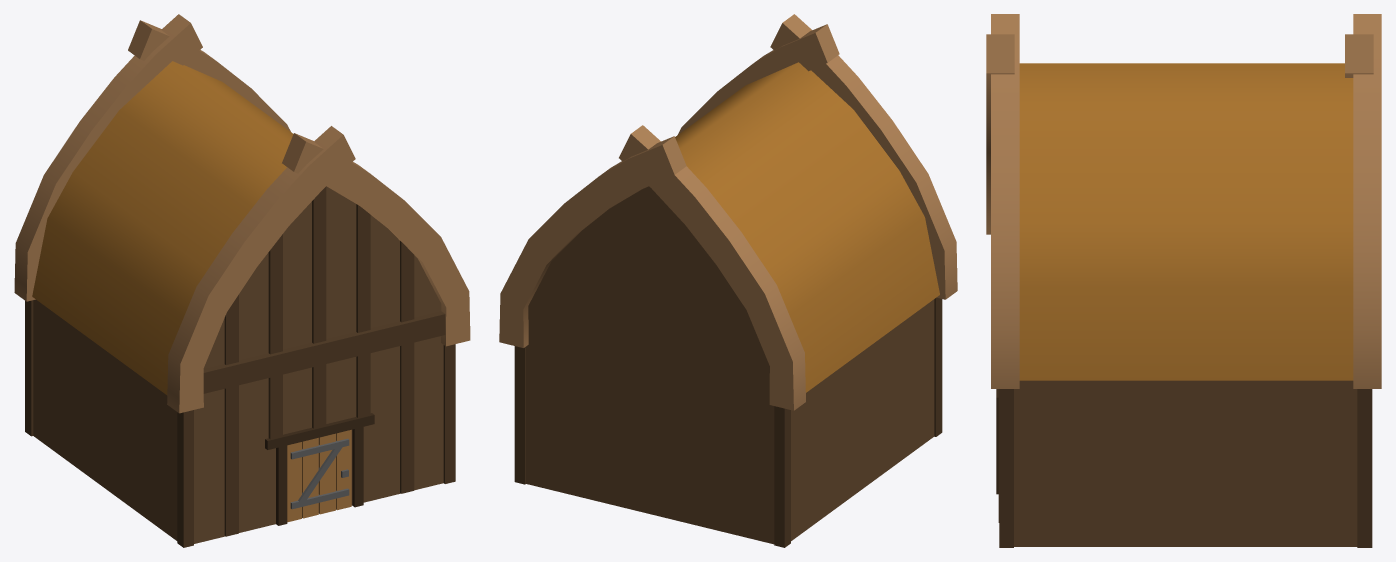
The model's file is Huis1.fbx.
The picture shows the model from 3 angles, left to right: view 1: azimuth 30°, elevation 25°; view 2: azimuth 150°, elevation 25°; view 3: azimuth 270°, elevation 25°; orthographic projection. The views are drawn at different scales.
Visible parts, largest first — view 1: Huis1; view 2: Huis1; view 3: Huis1.
Boxes of the visible parts, x1,y1,x2,y2 form: Huis1: (14, 14, 470, 547); Huis1: (499, 14, 957, 547); Huis1: (986, 14, 1381, 547).
Size of the model in its own units: 2.8 by 3.47 by 2.79.
